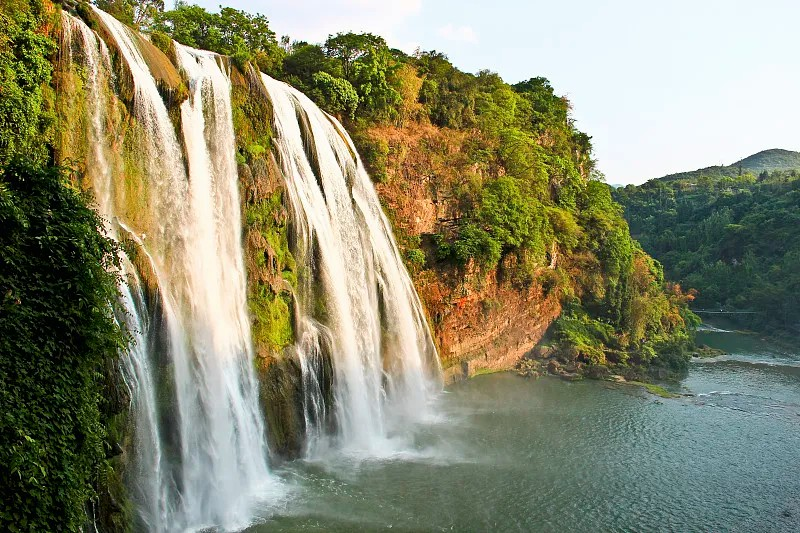Huangguoshu: (56, 4, 442, 533)
